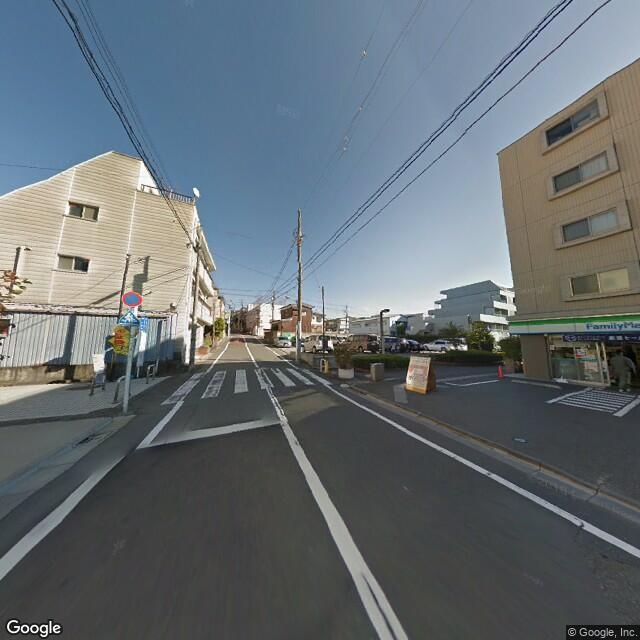family_mart: (506, 310, 639, 340)
